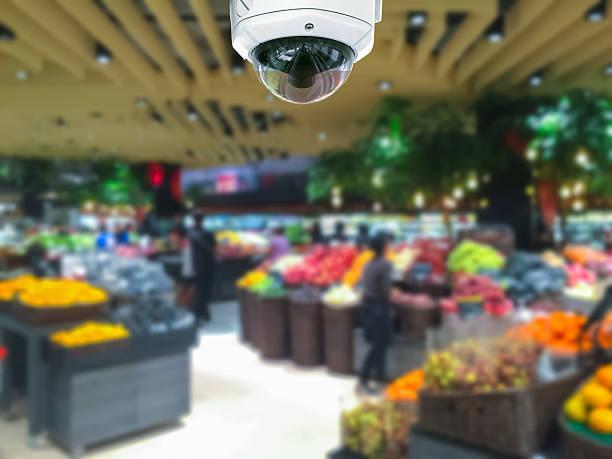camera: (203, 0, 413, 151)
